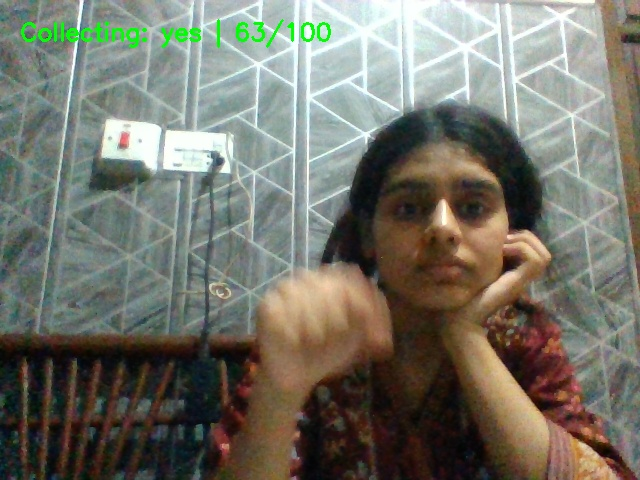yes: (234, 256, 409, 422)
